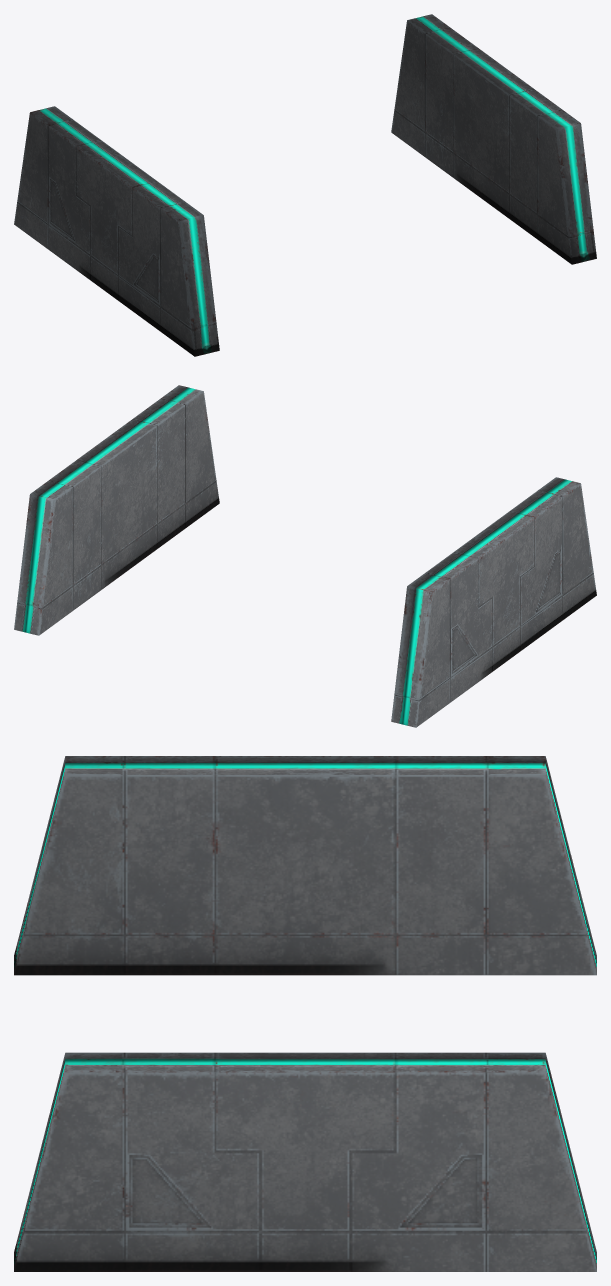
The model's file is Spaceship_shipboard_wall_mdl.fbx.
3 renders of one model, top to bottom at view 1: azimuth 30°, elevation 25°; view 2: azimuth 150°, elevation 25°; view 3: azimuth 270°, elevation 25°, orthographic. The views are drawn at different scales.
Parts seen in each view (by area): view 1: spaceship_shipboard_wall_mdl; view 2: spaceship_shipboard_wall_mdl; view 3: spaceship_shipboard_wall_mdl.
Part boxes in pixels (bbox=[...]): spaceship_shipboard_wall_mdl: bbox=[14, 14, 596, 356]; spaceship_shipboard_wall_mdl: bbox=[14, 385, 596, 727]; spaceship_shipboard_wall_mdl: bbox=[14, 756, 596, 1271].
Size of the model in its own units: 315 by 92.78 by 246.
